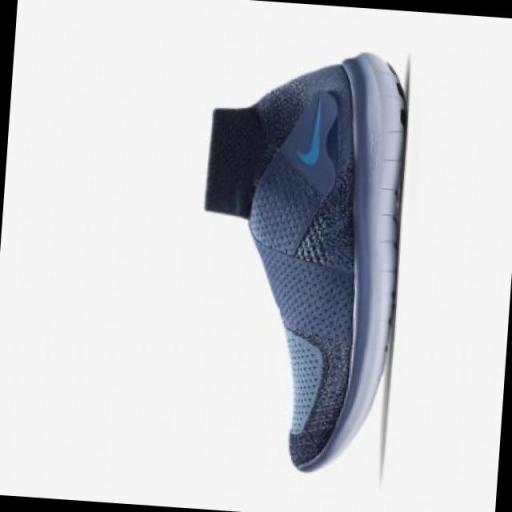Nike: (292, 91, 334, 169)
